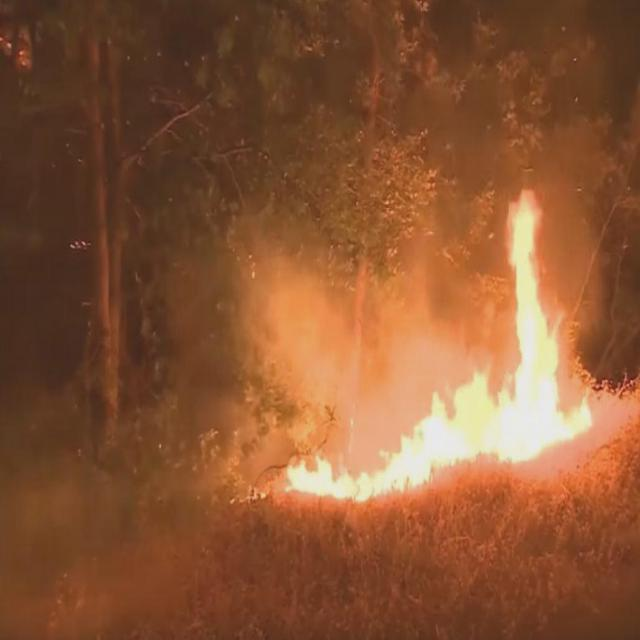Fire: (284, 182, 598, 521)
